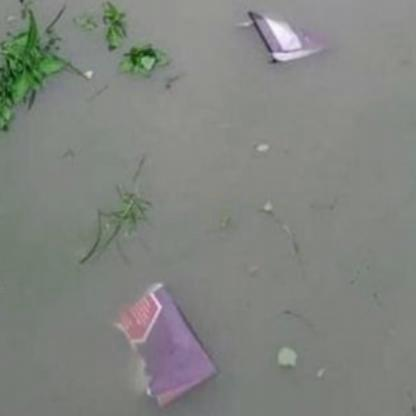Trash: (114, 285, 220, 408), (251, 7, 327, 65)
